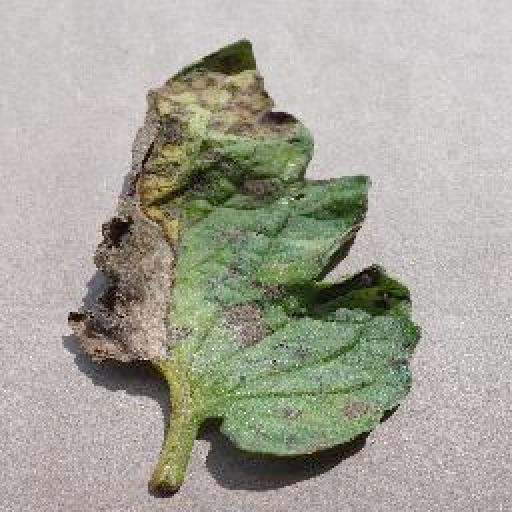disease_tomato: (74, 30, 424, 456)
